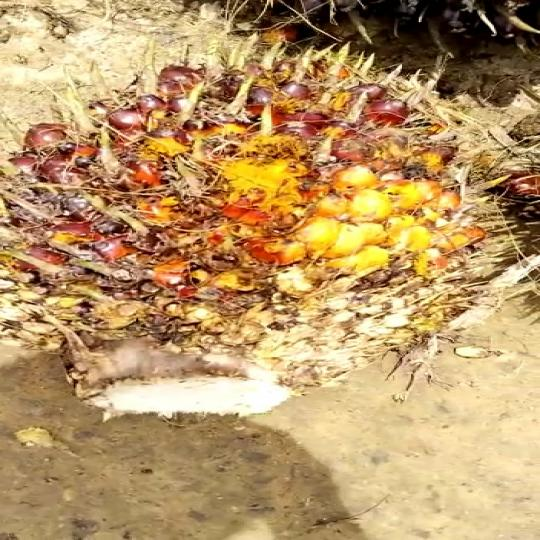masak: (1, 48, 516, 434)
